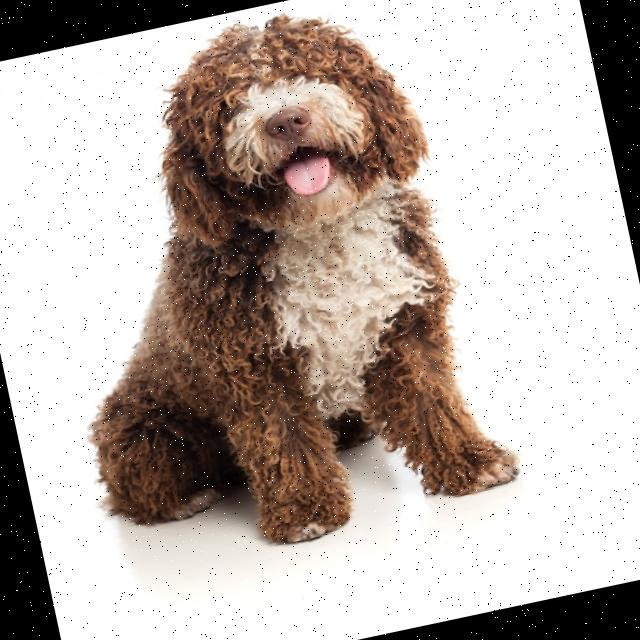Dog: (10, 0, 523, 578)
